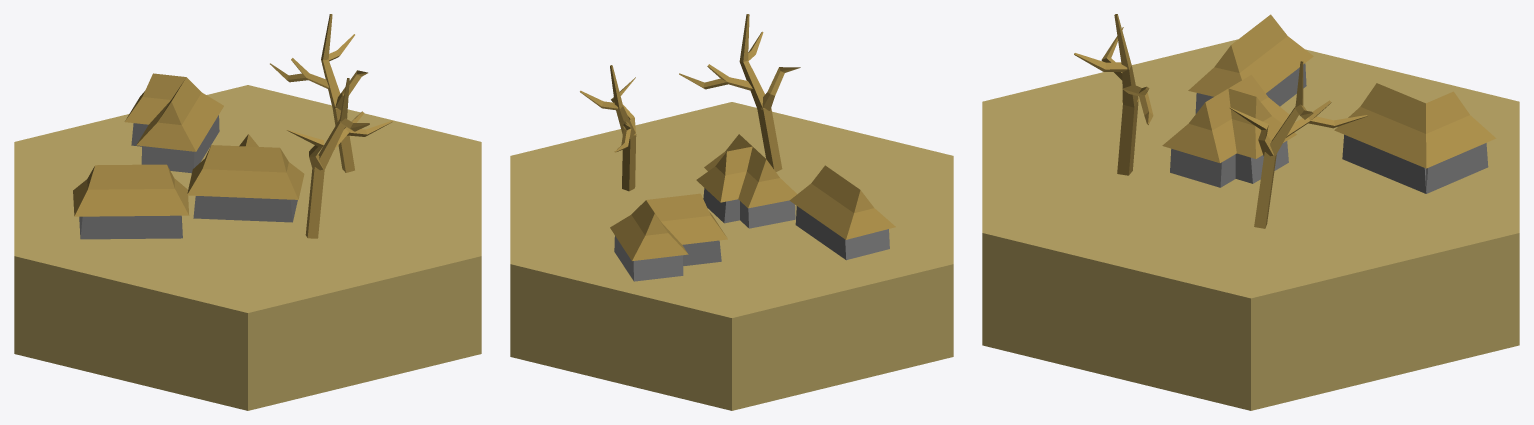
Rendered from Casas_Desertico_3.fbx.
3 views of the same model, side by side, from view 1: azimuth 30°, elevation 25°; view 2: azimuth 150°, elevation 25°; view 3: azimuth 270°, elevation 25° (orthographic). The views are drawn at different scales.
Parts seen in each view (by area): view 1: Casas_Desertico_3; view 2: Casas_Desertico_3; view 3: Casas_Desertico_3.
Boxes of the visible parts, x1,y1,x2,y2 form: Casas_Desertico_3: [14, 14, 481, 410]; Casas_Desertico_3: [510, 14, 953, 410]; Casas_Desertico_3: [982, 14, 1519, 410].
Bounding box in the file's own units: 200 × 103 × 173.
